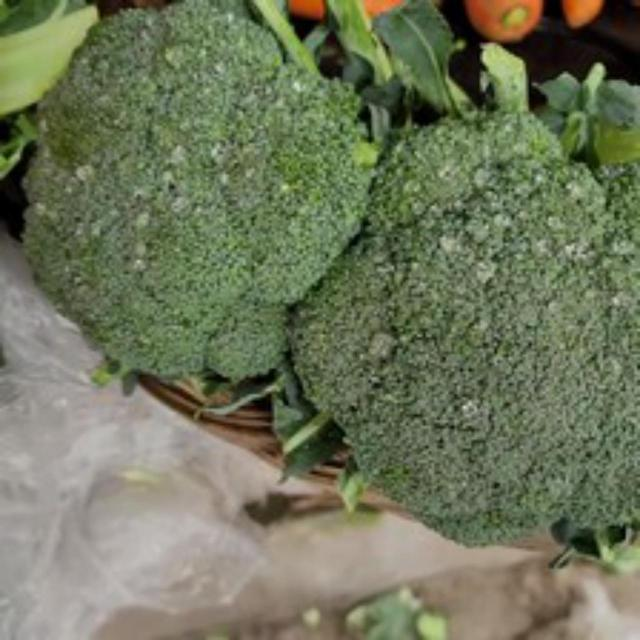broccoli: (25, 0, 370, 393)
